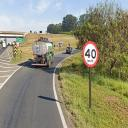speed_limit_40: (82, 40, 98, 68)
